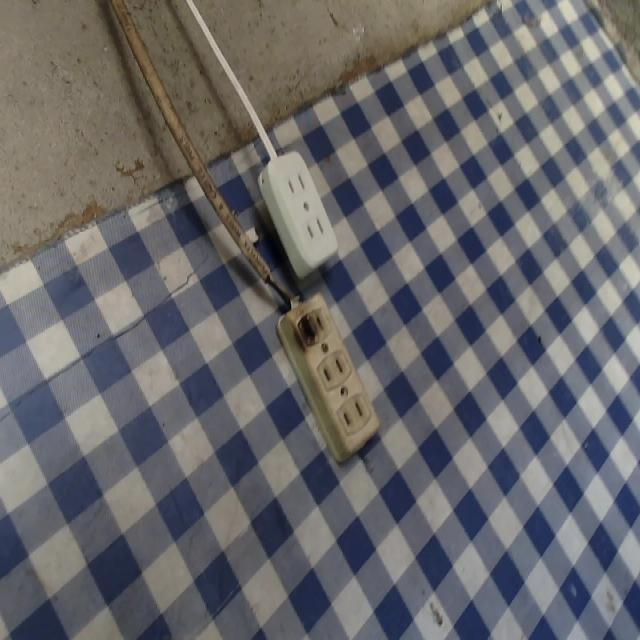-: (286, 309, 321, 355)
